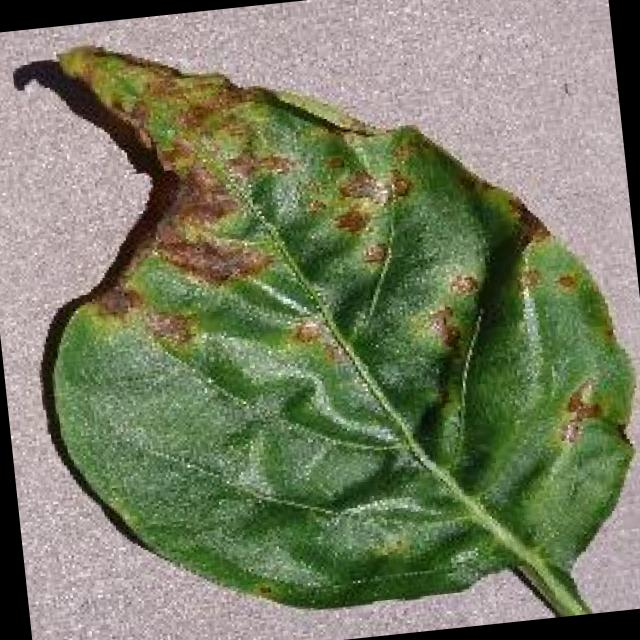Chilli_Bacterial_Spot: (0, 0, 640, 640), (301, 154, 400, 278), (150, 217, 276, 297), (146, 143, 264, 220), (548, 374, 610, 448), (142, 301, 205, 358), (329, 162, 391, 210), (424, 300, 467, 356), (362, 529, 418, 567), (326, 202, 372, 241), (282, 313, 325, 352), (443, 266, 481, 302), (510, 262, 546, 300), (354, 235, 390, 271), (382, 168, 416, 202), (548, 265, 582, 298)
